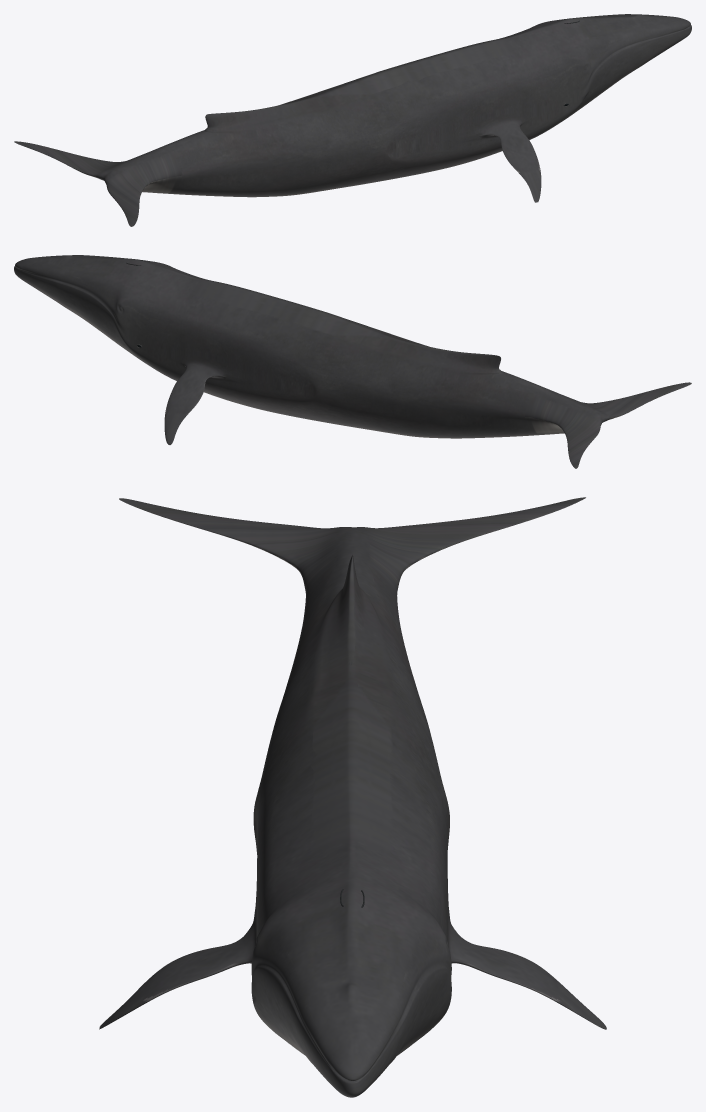
Rendered from model-cetacean-caperea-marginata-v0678.glb.
The picture shows the model from 3 angles, top to bottom: view 1: azimuth 30°, elevation 25°; view 2: azimuth 150°, elevation 25°; view 3: azimuth 270°, elevation 25°; orthographic projection. The views are drawn at different scales.
Visible parts, largest first — view 1: caperea-marginata licensed source body; view 2: caperea-marginata licensed source body; view 3: caperea-marginata licensed source body.
Boxes of the visible parts, x1,y1,x2,y2 form: caperea-marginata licensed source body: [14, 14, 691, 226]; caperea-marginata licensed source body: [14, 255, 691, 468]; caperea-marginata licensed source body: [99, 497, 606, 1097].
Bounding box in the file's own units: 3.85 × 0.6807 × 1.37.
3 materials, 1 textured.
